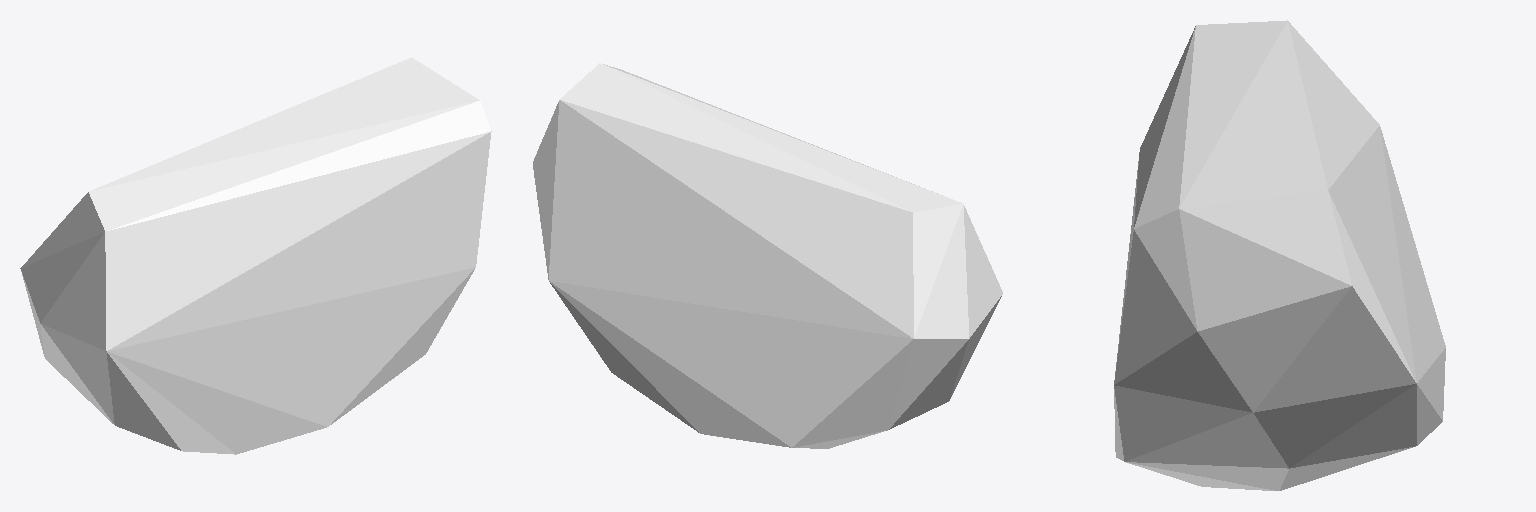
URDF robot description (red_lleg):
<robot name="red_lleg">
  <link name="base_link">
    <visual>
      <origin xyz="0 0 0" rpy="0 0 0" />
      <geometry>
        <mesh filename="package://hpp-timeopt-corba/meshes/red/red_lleg.stl"/>
      </geometry>
      <material name="white">
        <color rgba="1 1 1 1"/>
      </material>
    </visual>
    <collision>
      <origin xyz="0 0 0" rpy="0 0 0" />
      <geometry>
        <mesh filename="package://hpp-timeopt-corba/meshes/red/red_lleg.stl"/>
      </geometry>
    </collision>
  </link>
</robot>

--- Render facts (derived) ---
Views: 3 orthographic renders of the robot side by side, from view 1: azimuth 30°, elevation 25°; view 2: azimuth 150°, elevation 25°; view 3: azimuth 270°, elevation 25°.
Robot: red_lleg — 1 links, 0 joints (none); root link base_link; default pose: every joint at zero.
Links seen in each view (by area): view 1: base_link; view 2: base_link; view 3: base_link.
Link boxes in pixels (<box>): base_link: <box>20,58,491,454</box>; base_link: <box>533,63,1002,448</box>; base_link: <box>1114,20,1445,490</box>.
Size in the robot's own frame: 1.49 by 0.7593 by 1.01 metres.
Meshes: 1 distinct files referenced, 1 mesh visuals loaded (1 binary STL).